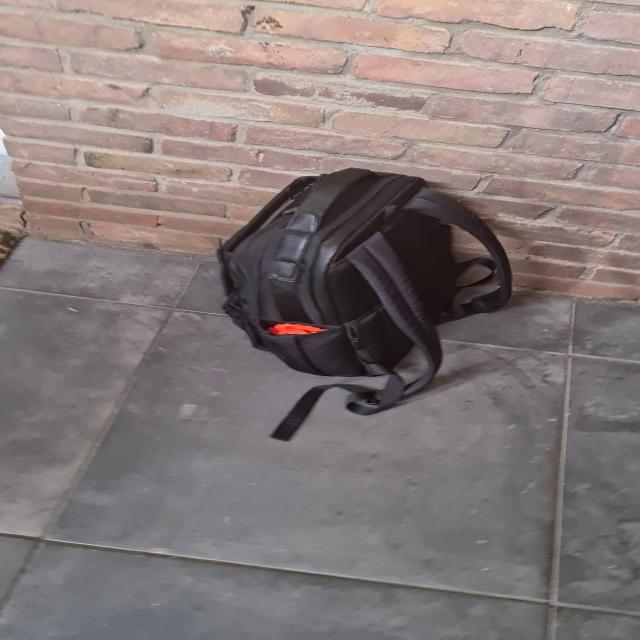backpack: (204, 160, 518, 418)
